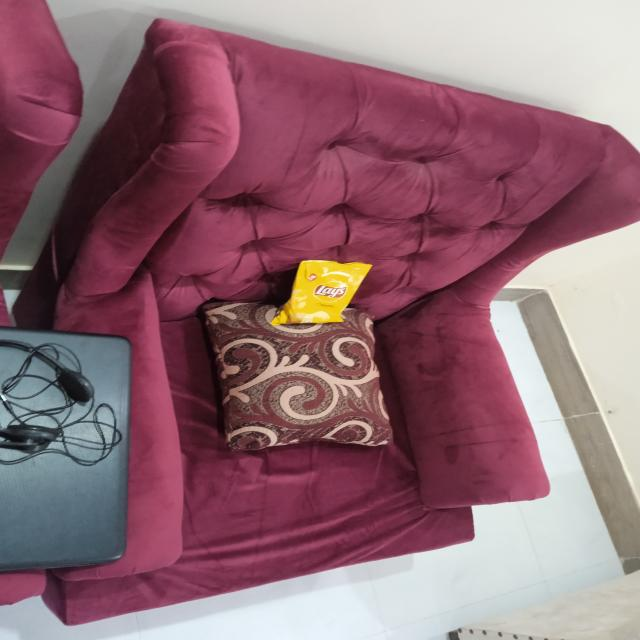Plastic: (274, 254, 380, 328)
